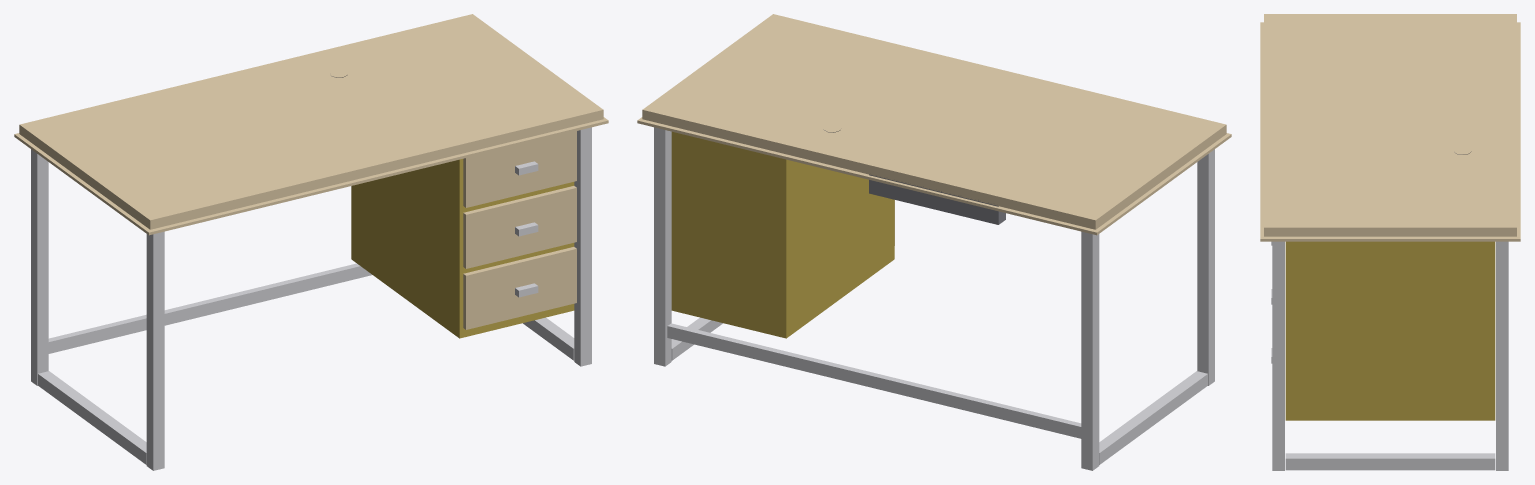
File: office_desk.glb
3 renders of one model, left to right at view 1: azimuth 30°, elevation 25°; view 2: azimuth 150°, elevation 25°; view 3: azimuth 270°, elevation 25°, orthographic. The views are drawn at different scales.
Parts seen in each view (by area): view 1: top, drawer_fronts, drawer_body, crossbar, leg_lf, leg_lb, leg_rf, top_edge, leg_l_base, leg_r_base, drawer_handles; view 2: top, drawer_body, crossbar, leg_lb, leg_rb, leg_lf, top_edge, leg_l_base, cable_tray, leg_r_base; view 3: top, drawer_body, leg_r_base, top_edge, leg_rb, leg_rf.
Boxes of the visible parts, x1=… form: top: x1=19, y1=14, x2=603, y2=229; drawer_fronts: x1=463, y1=131, x2=576, y2=329; drawer_body: x1=351, y1=159, x2=574, y2=338; crossbar: x1=48, y1=263, x2=371, y2=353; leg_lf: x1=146, y1=231, x2=164, y2=470; leg_lb: x1=31, y1=149, x2=48, y2=385; leg_rf: x1=574, y1=127, x2=591, y2=366; top_edge: x1=14, y1=117, x2=608, y2=235; leg_l_base: x1=38, y1=371, x2=146, y2=464; leg_r_base: x1=523, y1=317, x2=574, y2=360; drawer_handles: x1=515, y1=161, x2=538, y2=297; top: x1=642, y1=14, x2=1226, y2=229; drawer_body: x1=671, y1=131, x2=894, y2=338; crossbar: x1=667, y1=323, x2=1081, y2=438; leg_lb: x1=1081, y1=231, x2=1099, y2=470; leg_rb: x1=654, y1=127, x2=671, y2=366; leg_lf: x1=1197, y1=149, x2=1214, y2=385; top_edge: x1=637, y1=117, x2=1231, y2=235; leg_l_base: x1=1099, y1=371, x2=1207, y2=464; cable_tray: x1=869, y1=174, x2=1005, y2=224; leg_r_base: x1=671, y1=317, x2=722, y2=360; top: x1=1264, y1=14, x2=1516, y2=236; drawer_body: x1=1285, y1=241, x2=1495, y2=420; leg_r_base: x1=1285, y1=453, x2=1495, y2=470; top_edge: x1=1260, y1=22, x2=1520, y2=241; leg_rb: x1=1496, y1=241, x2=1508, y2=470; leg_rf: x1=1272, y1=241, x2=1284, y2=470.
Bounding box in the file's own units: 1.42 × 0.755 × 0.72.
